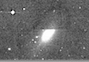Halpha: (22, 40, 65, 60)
